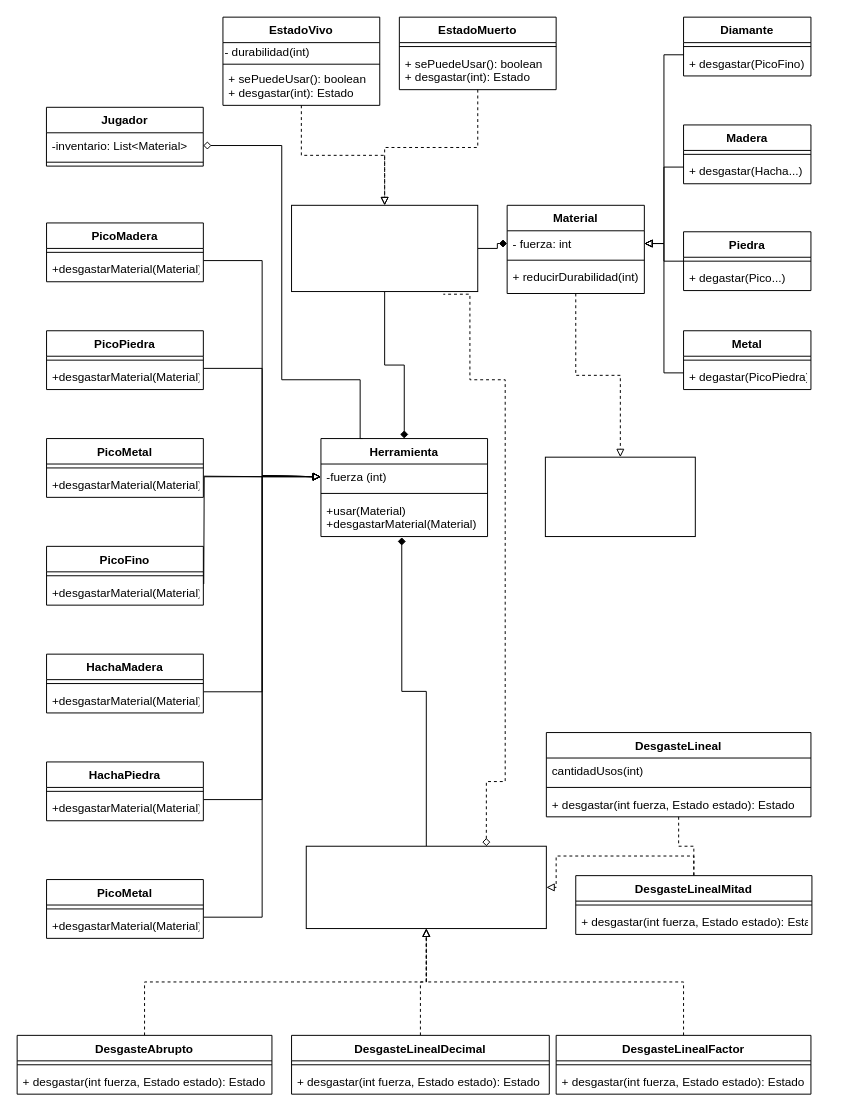
Some shapes in this 844 by 1114 pixel diagram are drawn without their labels. Here are the shapes that lost their labels. From the top down, the centre of each, then its label:
At point 384,248: "<<Interface>> Estado + sePuedeUsar(boolean) + desgastar(int): Estado".
At point 619,496: "<<Interface>> Desgastable + desgastar(Herramienta)".
At point 425,887: "<<Interface>> EstrategiaDesgaste desgastar(int fuerza, Estado estado): Estado".
